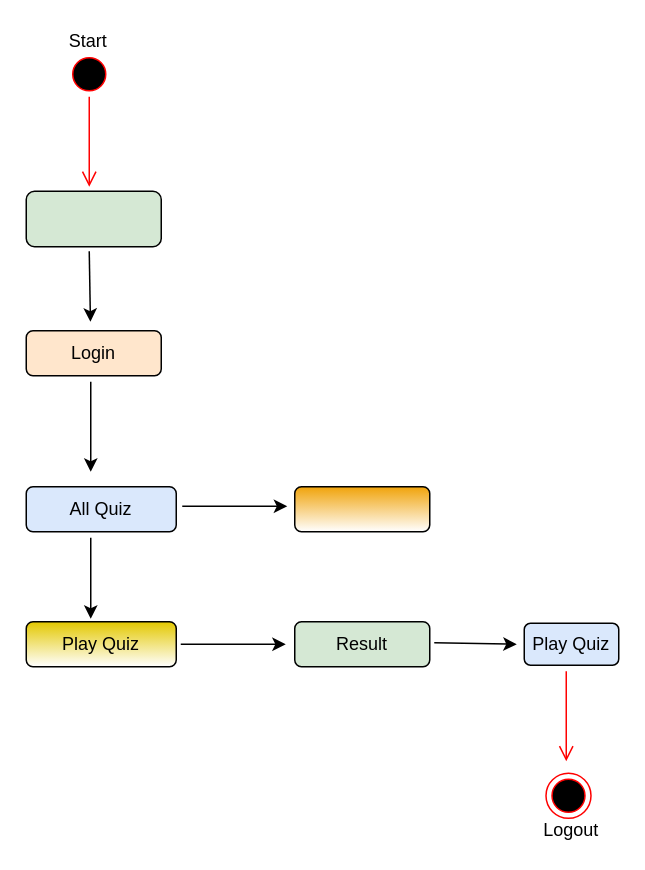
Image size: 645x870. Some labels were removed from this diagram. The box of each missing label's shape, as (x1, y1, x2, y2) in pixels:
Create Quiz: (293, 485, 430, 532)
User Registraction: (25, 190, 161, 247)
